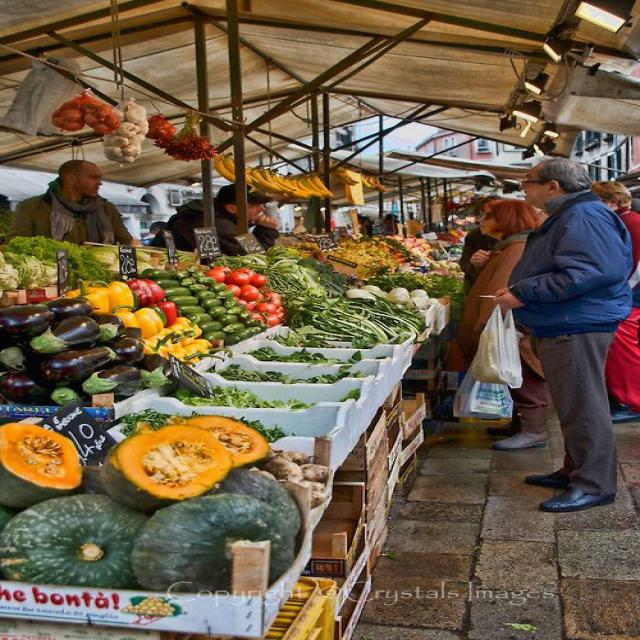body: (486, 154, 635, 514), (440, 197, 550, 452), (589, 179, 640, 425), (8, 158, 136, 245), (146, 180, 284, 256), (453, 194, 507, 302), (353, 212, 407, 237), (623, 193, 639, 216), (148, 219, 166, 232)
